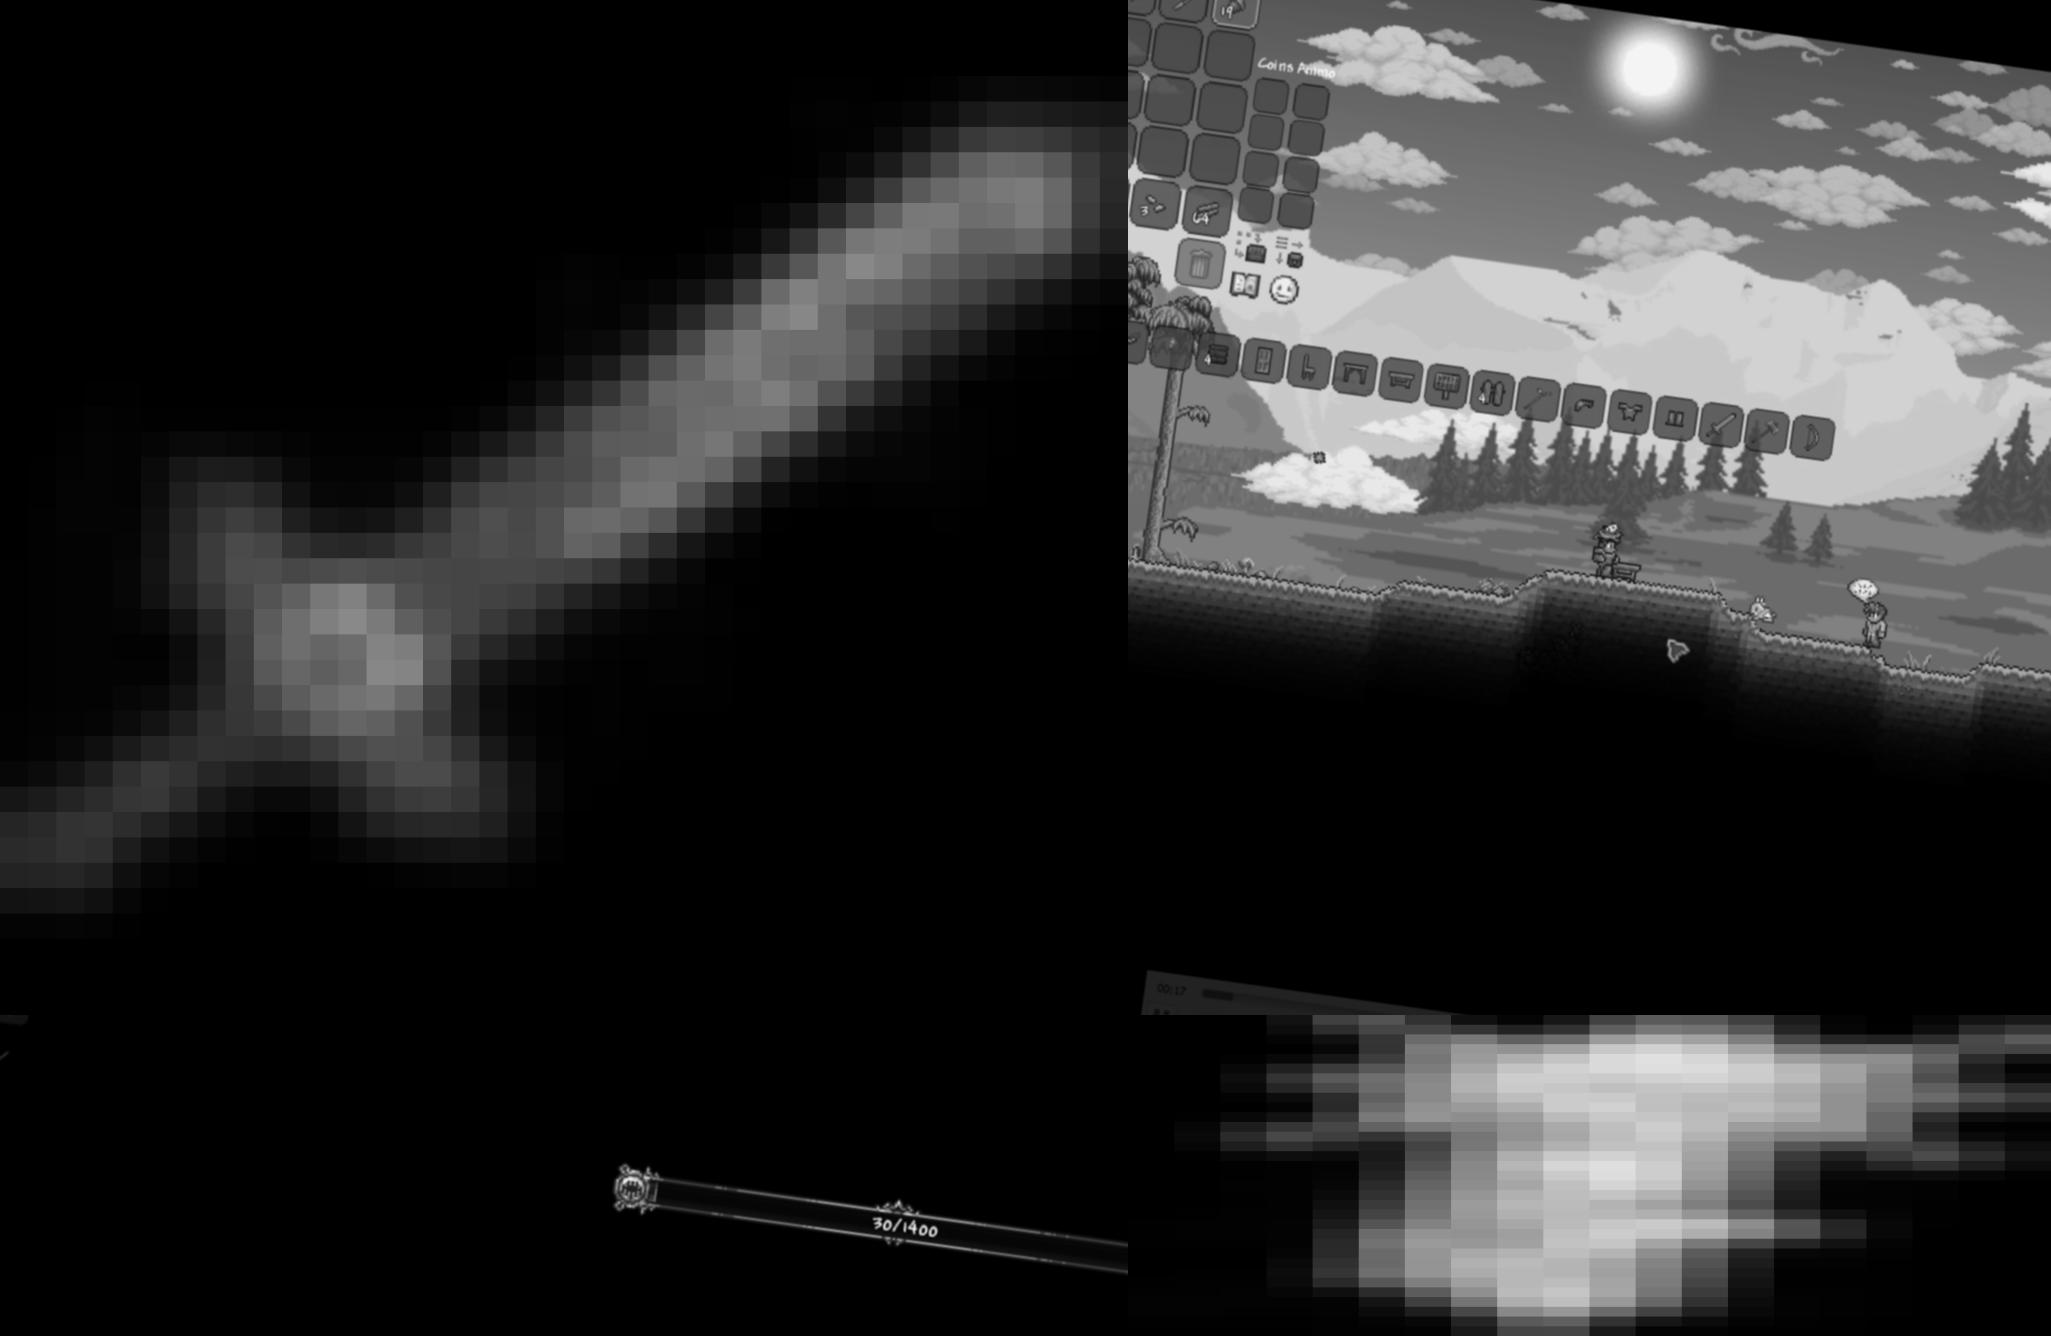helmet: (1570, 395, 1601, 418)
rope: (1129, 1015, 2051, 1336)
sword: (0, 0, 1129, 1015)
